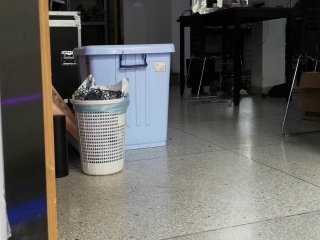room: (4, 4, 320, 235)
